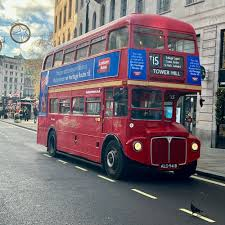bus: (37, 13, 206, 181)
